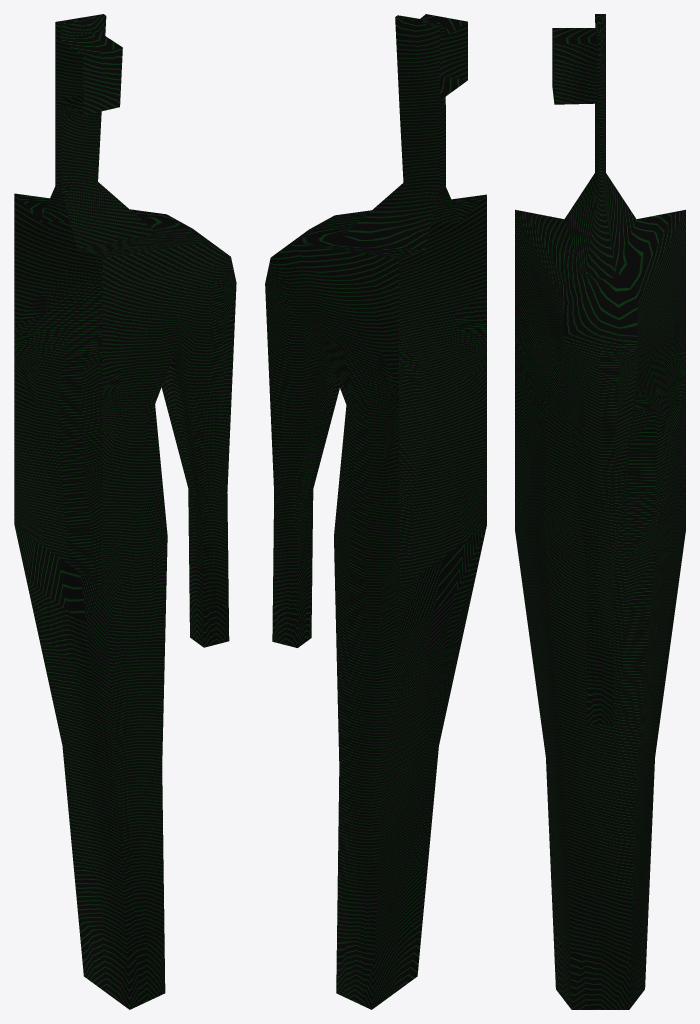
The model's file is hologram-003.glb.
3 views of the same model, side by side, from view 1: azimuth 30°, elevation 25°; view 2: azimuth 150°, elevation 25°; view 3: azimuth 270°, elevation 25° (orthographic). The views are drawn at different scales.
Parts seen in each view (by area): view 1: Cube; view 2: Cube; view 3: Cube.
Boxes of the visible parts, <box> form: Cube: <box>14,14,236,1009</box>; Cube: <box>265,14,486,1009</box>; Cube: <box>515,14,685,1009</box>.
Bounding box in the file's own units: 1.97 × 11.27 × 1.83.
1 material, 1 textured.
